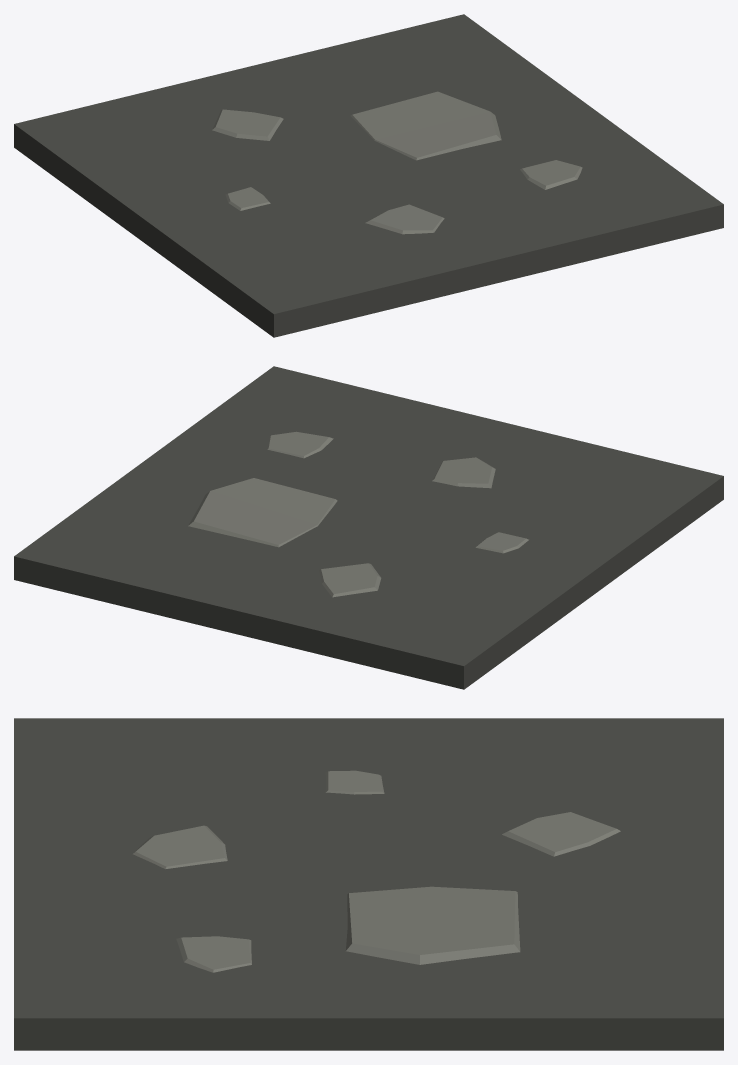
File: Floor_7.fbx
The picture shows the model from 3 angles, top to bottom: view 1: azimuth 30°, elevation 25°; view 2: azimuth 150°, elevation 25°; view 3: azimuth 270°, elevation 25°; orthographic projection. The views are drawn at different scales.
Visible parts, largest first — view 1: Floor_7; view 2: Floor_7; view 3: Floor_7.
Boxes of the visible parts, x1=… form: Floor_7: x1=14, y1=14, x2=723, y2=337; Floor_7: x1=14, y1=366, x2=723, y2=689; Floor_7: x1=14, y1=718, x2=723, y2=1050.
Bounding box in the file's own units: 200 × 12.07 × 200.
